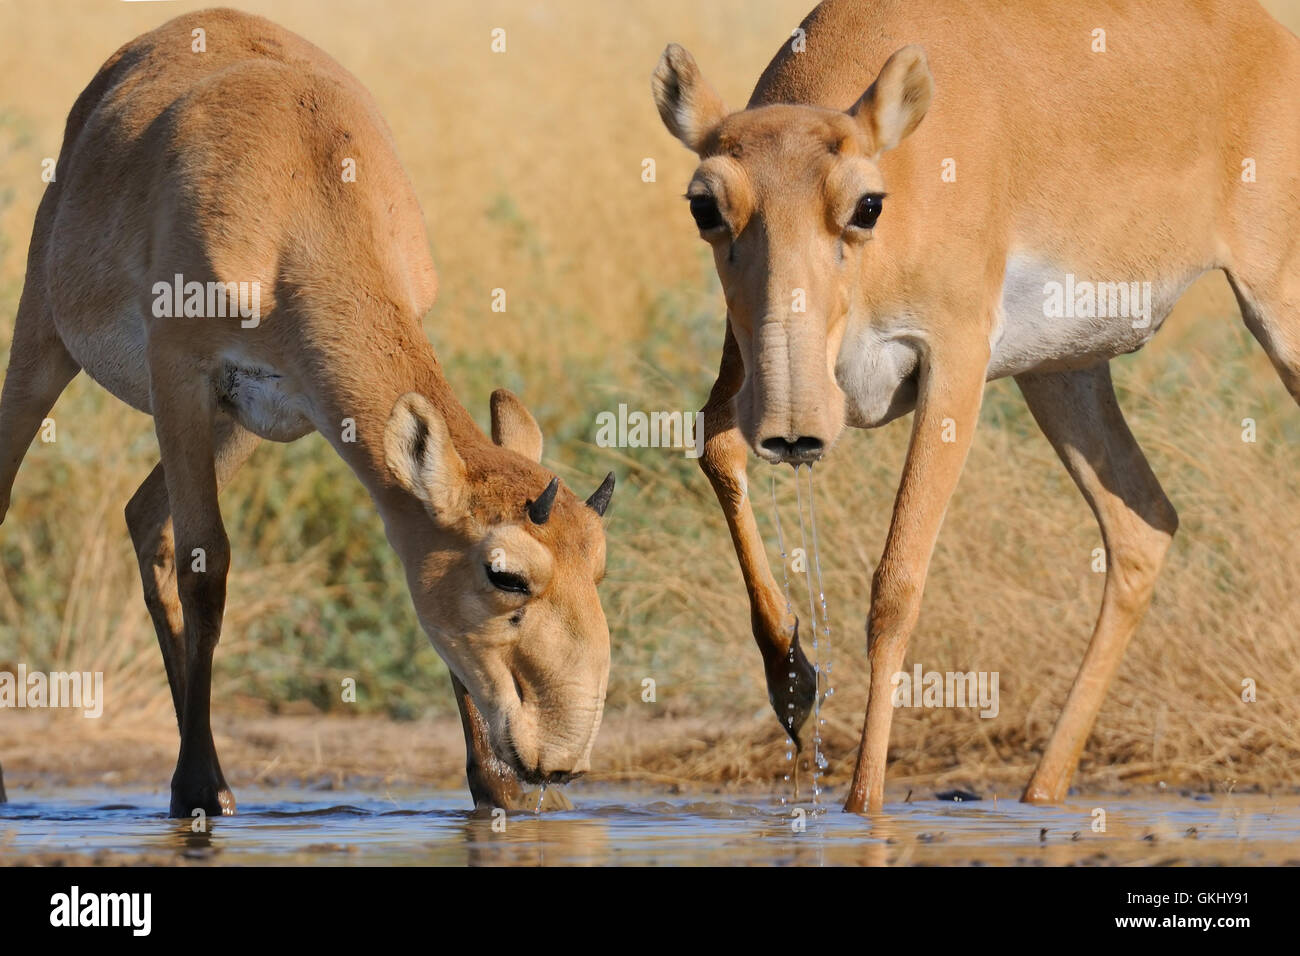saiga: (26, 6, 629, 829)
